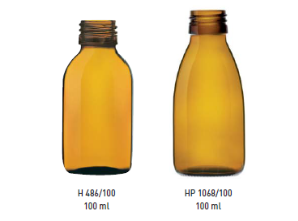glass_bottle: (170, 8, 250, 178), (60, 17, 138, 179)
